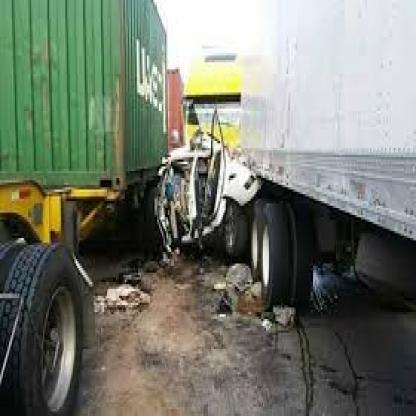accident: (124, 54, 282, 266)
